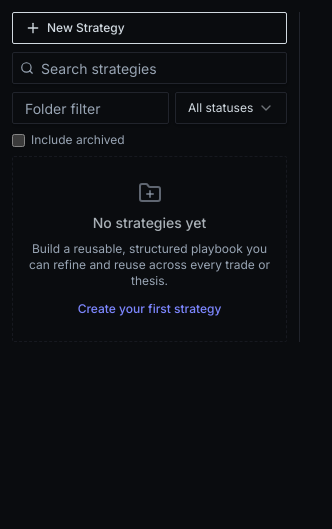
Test case: StrategySidebar — create strategy › the empty state's own action button also opens the create form
Click the button with test id "strategy-sidebar-list-empty-action": {"x": 150, "y": 309} [78,301,221,317]
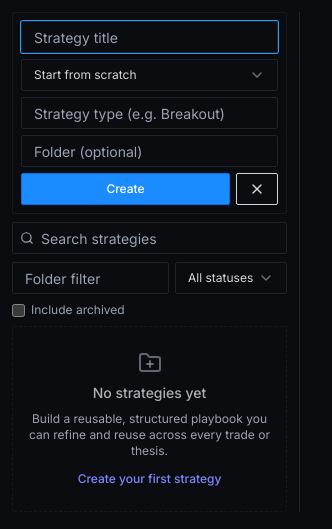
expect the element with test id "strategy-sidebar-create-form" is shown: met, box [12,12,287,214]
